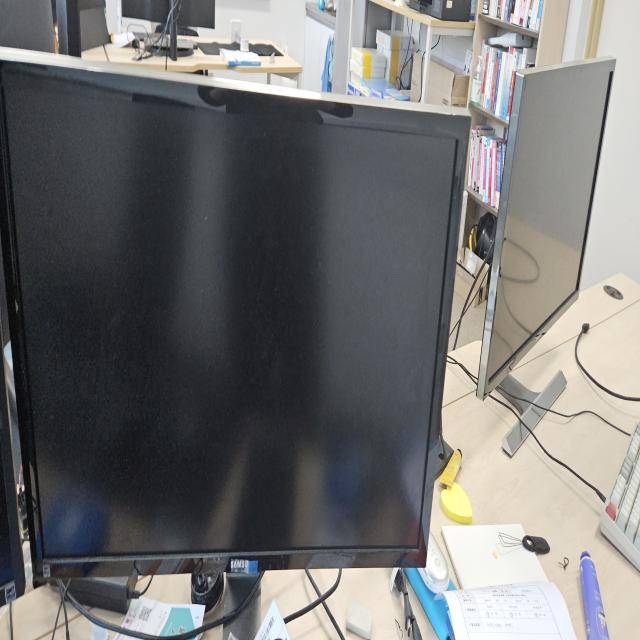Keyboard: (599, 417, 639, 572)
Monitor: (2, 44, 472, 604)
